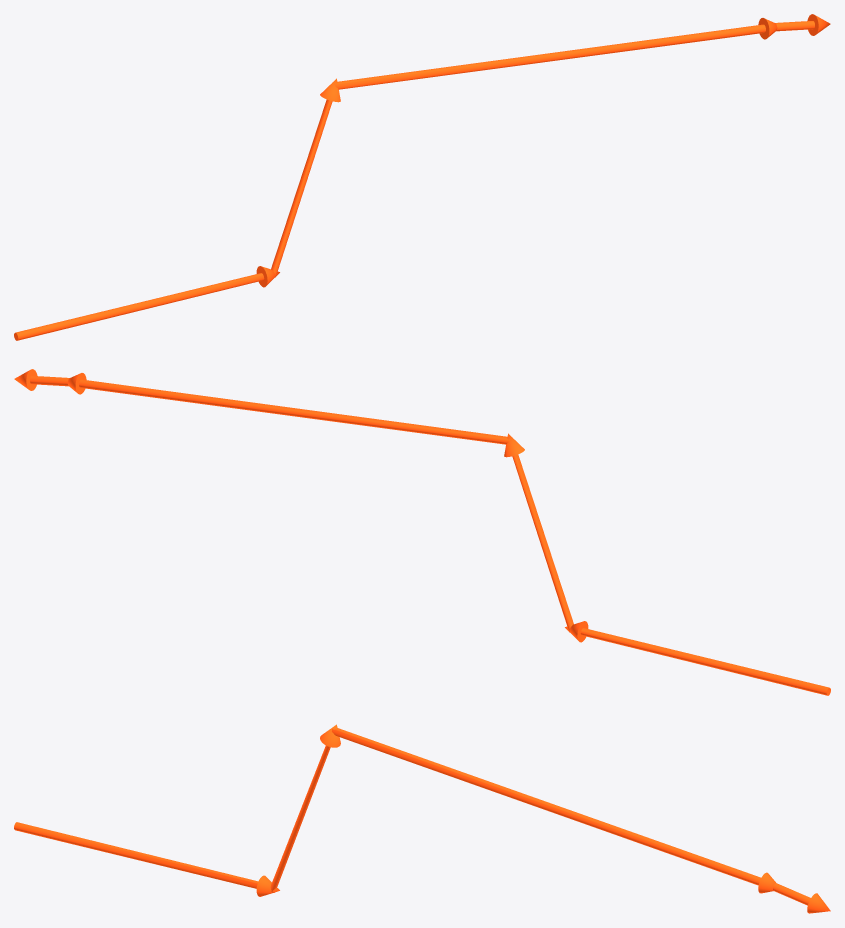
File: stacker_flow.glb
3 renders of one model, top to bottom at view 1: azimuth 30°, elevation 25°; view 2: azimuth 150°, elevation 25°; view 3: azimuth 330°, elevation 25°, orthographic.
Visible parts, largest first — view 1: stacking; view 2: stacking; view 3: stacking.
Boxes of the visible parts, x1,y1,x2,y2 form: stacking: (14, 14, 830, 340); stacking: (14, 369, 830, 695); stacking: (14, 724, 830, 913).
Bounding box in the file's own units: 6.66 × 1.48 × 0.156.
